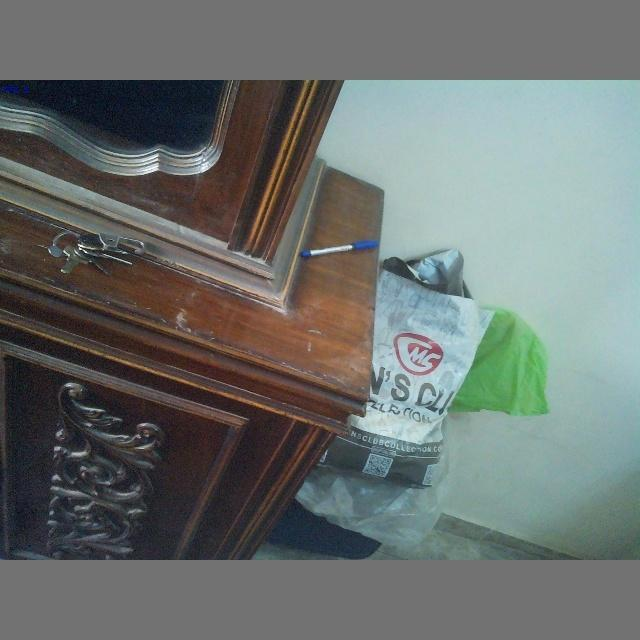Keys: (28, 209, 152, 281)
